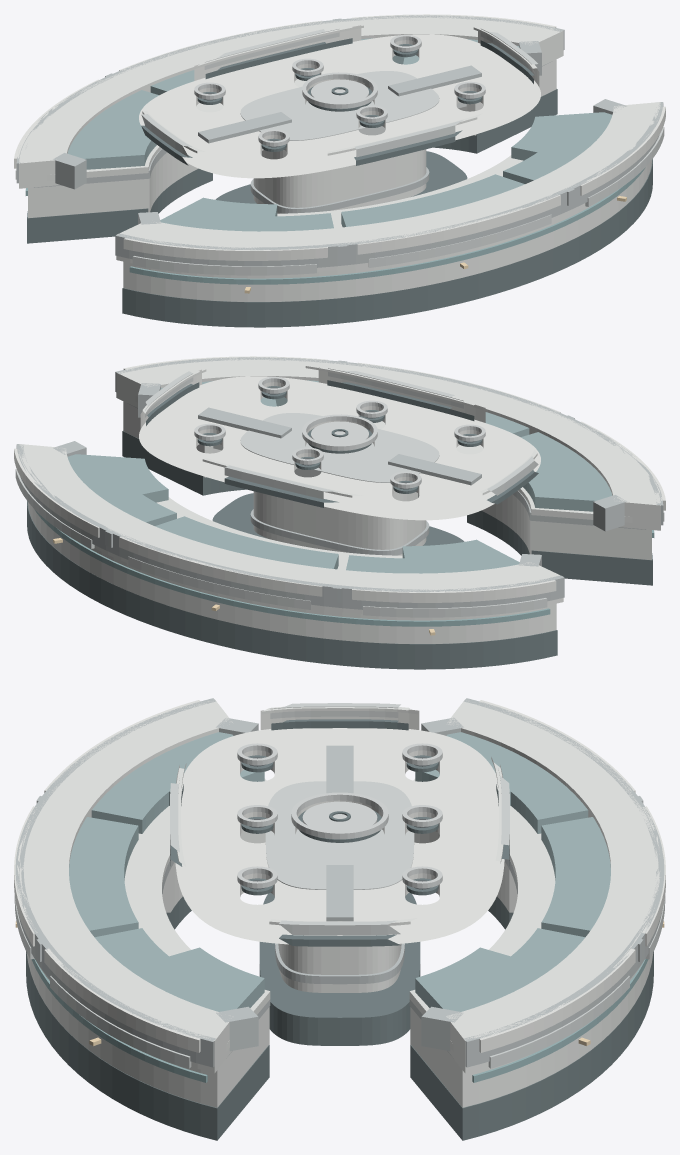
File: integrated_mess_booth.glb
3 views of the same model, one above another, from view 1: azimuth 30°, elevation 25°; view 2: azimuth 150°, elevation 25°; view 3: azimuth 270°, elevation 25° (orthographic). The views are drawn at different scales.
Visible parts, largest first — view 1: STATIC_warm_white_shell, STATIC_snow_white_table, STATIC_graphite_gasket, STATIC_teal_upholstery, STATIC_aluminium_frame, STATIC_light_alloy, STATIC_teal_panels, STATIC_serving_satin, removable_serving_insert; view 2: STATIC_warm_white_shell, STATIC_snow_white_table, STATIC_graphite_gasket, STATIC_teal_upholstery, STATIC_aluminium_frame, STATIC_light_alloy, STATIC_teal_panels, STATIC_serving_satin, removable_serving_insert; view 3: STATIC_warm_white_shell, STATIC_snow_white_table, STATIC_teal_upholstery, STATIC_graphite_gasket, STATIC_aluminium_frame, STATIC_light_alloy, STATIC_serving_satin, STATIC_teal_panels, removable_serving_insert.
Boxes of the visible parts, left/top/right/bottom form: STATIC_warm_white_shell: left=19, top=16, right=660, bottom=301; STATIC_snow_white_table: left=14, top=14, right=665, bottom=260; STATIC_graphite_gasket: left=27, top=38, right=652, bottom=327; STATIC_teal_upholstery: left=67, top=38, right=612, bottom=231; STATIC_aluminium_frame: left=16, top=15, right=663, bottom=267; STATIC_light_alloy: left=15, top=29, right=664, bottom=275; STATIC_teal_panels: left=25, top=167, right=645, bottom=284; STATIC_serving_satin: left=194, top=34, right=485, bottom=146; removable_serving_insert: left=311, top=79, right=368, bottom=102; STATIC_warm_white_shell: left=19, top=358, right=660, bottom=643; STATIC_snow_white_table: left=14, top=356, right=665, bottom=602; STATIC_graphite_gasket: left=27, top=380, right=652, bottom=669; STATIC_teal_upholstery: left=67, top=380, right=612, bottom=573; STATIC_aluminium_frame: left=16, top=357, right=663, bottom=609; STATIC_light_alloy: left=15, top=368, right=664, bottom=617; STATIC_teal_panels: left=34, top=509, right=654, bottom=626; STATIC_serving_satin: left=194, top=376, right=485, bottom=488; removable_serving_insert: left=311, top=421, right=368, bottom=444; STATIC_warm_white_shell: left=19, top=700, right=660, bottom=1107; STATIC_snow_white_table: left=14, top=700, right=665, bottom=1052; STATIC_teal_upholstery: left=69, top=732, right=610, bottom=1011; STATIC_graphite_gasket: left=26, top=719, right=653, bottom=1140; STATIC_aluminium_frame: left=15, top=698, right=664, bottom=1067; STATIC_light_alloy: left=14, top=703, right=665, bottom=1068; STATIC_serving_satin: left=237, top=743, right=442, bottom=888; STATIC_teal_panels: left=31, top=959, right=648, bottom=1082; removable_serving_insert: left=302, top=801, right=377, bottom=831.
Size of the model in its own units: 3.75 by 0.8195 by 3.
